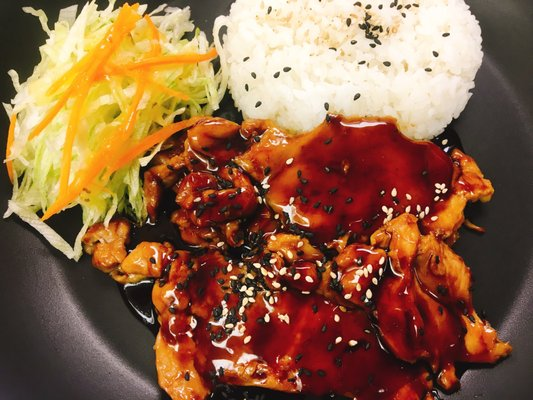sandwich: (64, 101, 505, 400)
